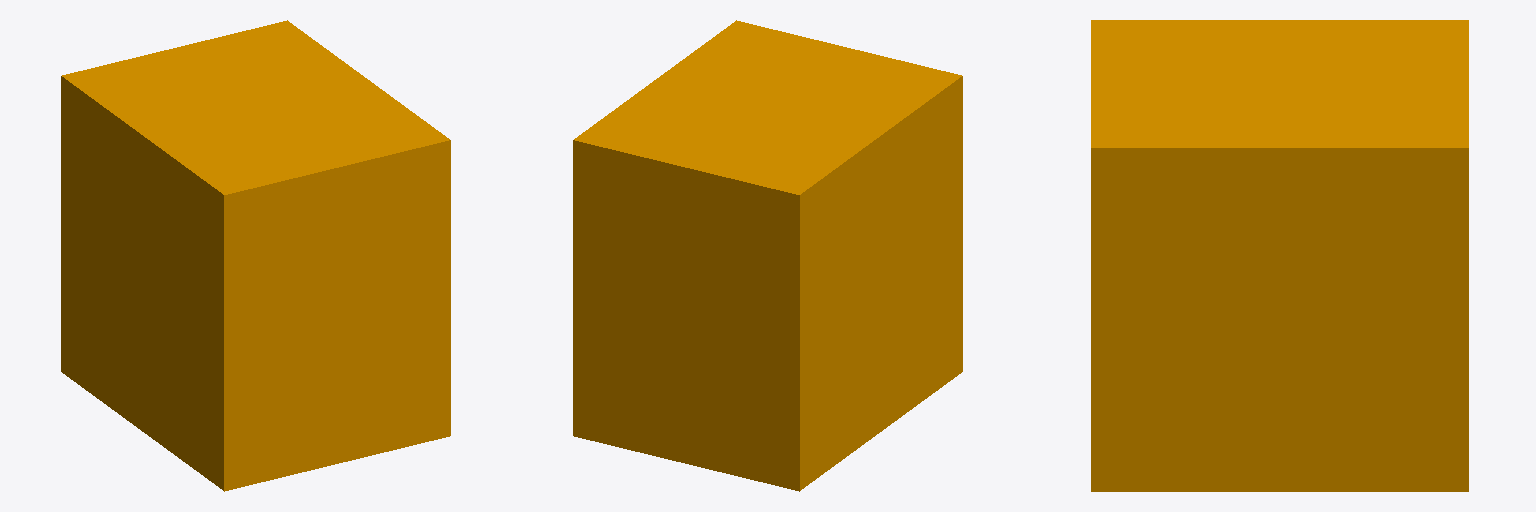
robot.urdf — object:
<robot name="object">
  <link name="object">
    <visual>
      <origin xyz="0 0 0" />
      <geometry>
        <box size="0.064 0.08000000000000002 0.08" />
      </geometry>
    </visual>

    <collision>
      <origin xyz="0 0 0" />
      <geometry>
        <box size="0.064 0.08000000000000002 0.08" />
      </geometry>
    </collision>

    <inertial>
      <mass value="0.05" />
      <inertia ixx="0.0001" ixy="0.0" ixz="0.0" iyy="0.0001" iyz="0.0" izz="0.0001" />
    </inertial>
  </link>
</robot>

--- Render facts (derived) ---
The picture shows the robot from 3 angles, left to right: view 1: azimuth 30°, elevation 25°; view 2: azimuth 150°, elevation 25°; view 3: azimuth 270°, elevation 25°; orthographic projection.
Robot: object — 1 links, 0 joints (none); root link object; default pose: all joints at 0.
Visible links, largest first — view 1: object; view 2: object; view 3: object.
Boxes of the visible links, bbox=[...] form: object: bbox=[61, 20, 450, 491]; object: bbox=[573, 20, 962, 491]; object: bbox=[1091, 20, 1468, 491].
Size in the robot's own frame: 0.064 by 0.08 by 0.08 metres.
Geometry: primitives only (box / cylinder / sphere), no mesh files.